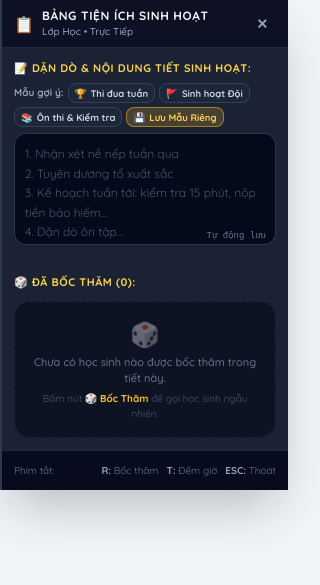
Test: PresentationSidePanel Component › cho phép Thầy lưu mẫu riêng tùy chỉnh và xóa mẫu riêng
Replace the text in the text box with placeholder "Nhận xét nề nếp tuần qua" with "Nội dung dặn dò riêng của Thầy" at (145, 189), box x1=14 y1=133 x2=276 y2=245
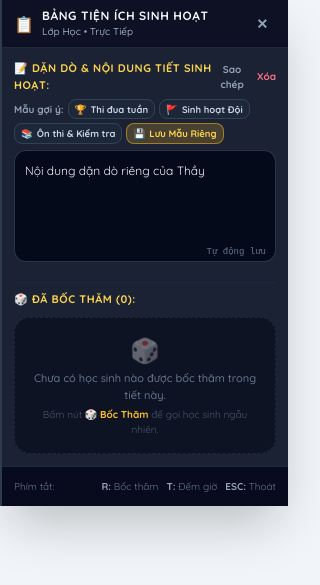
Click the button "💾 Lưu Mẫu Riêng" at (175, 133), box x1=126 y1=123 x2=224 y2=144
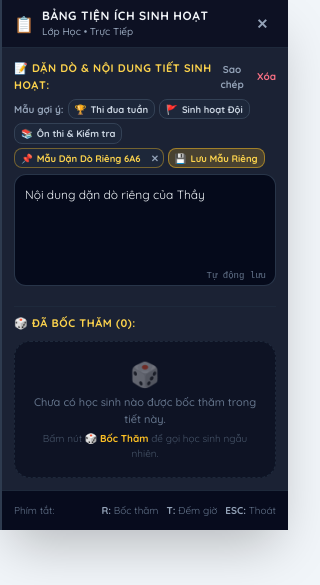
Expected: the text "Mẫu Dặn Dò Riêng 6A6" is shown, x1=37 y1=150 x2=141 y2=165
Expected: the button titled "Xóa mẫu riêng này" below "Mẫu gợi ý:" is shown
Click the button titled "Xóa mẫu riêng này" below "Mẫu gợi ý:" at (155, 158), box x1=147 y1=148 x2=163 y2=167
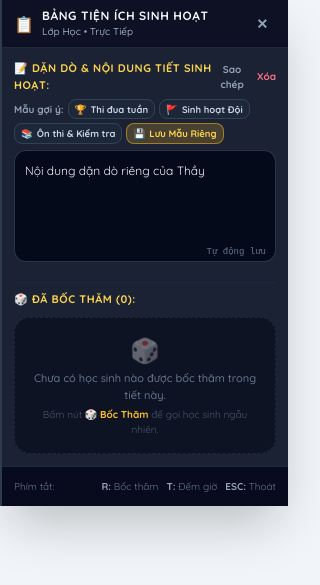
Expected: the button "Mẫu Dặn Dò Riêng 6A6" is gone
